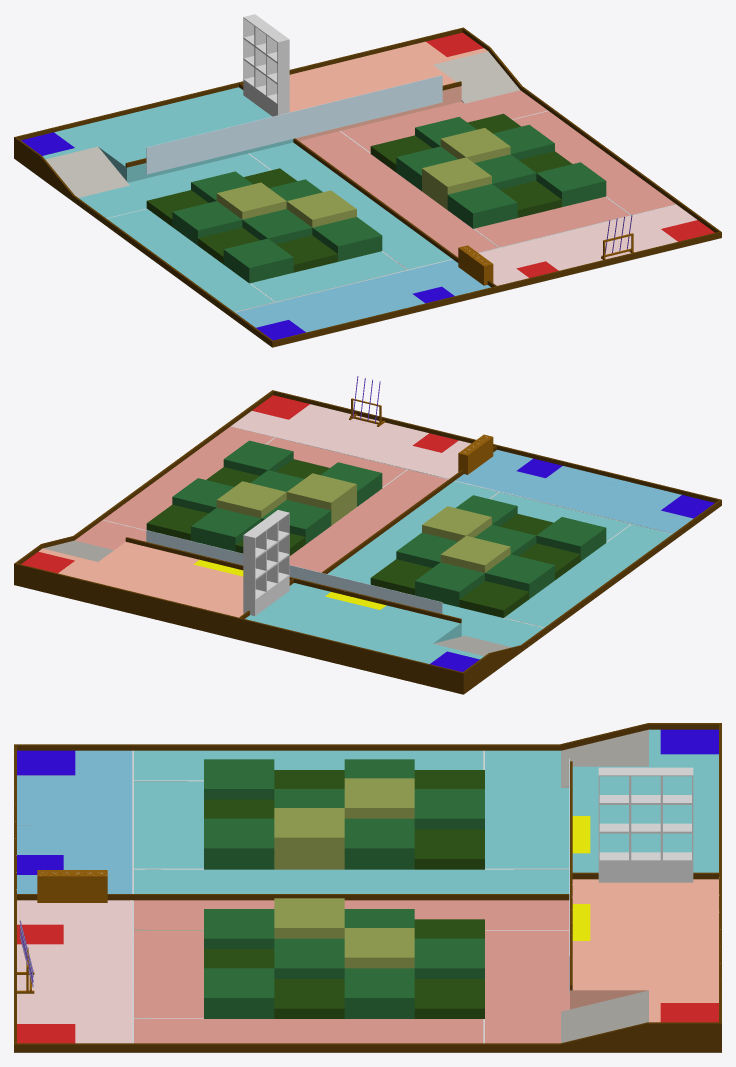
Rendered from arena.dae.
The picture shows the model from 3 angles, top to bottom: view 1: azimuth 30°, elevation 25°; view 2: azimuth 150°, elevation 25°; view 3: azimuth 270°, elevation 25°; orthographic projection. The views are drawn at different scales.
Visible parts, largest first — view 1: base_link; view 2: base_link; view 3: base_link.
Part boxes in pixels (x1,y1,x2,y2): base_link: (14,14,721,347); base_link: (14,376,721,694); base_link: (14,723,721,1052).
Bounding box in the file's own units: 12.15 × 12.1 × 2.48.
